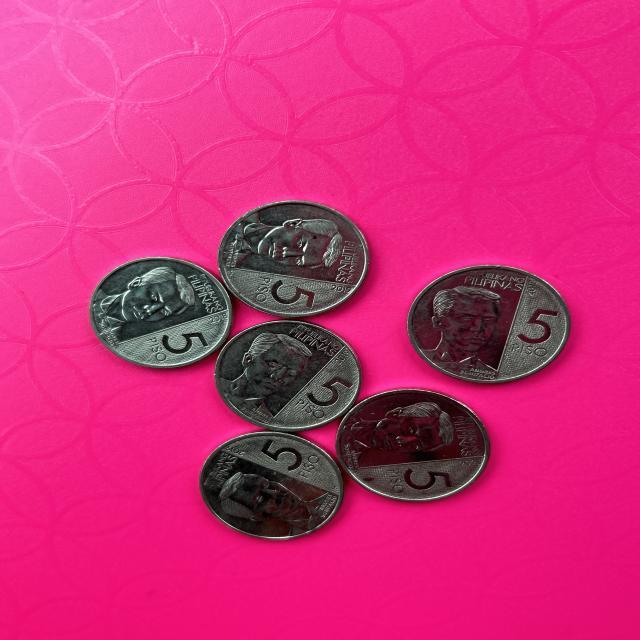5_New_Front: (245, 265, 322, 322), (516, 296, 564, 363), (136, 326, 217, 364), (253, 431, 316, 476), (286, 370, 354, 410), (383, 460, 455, 493)
